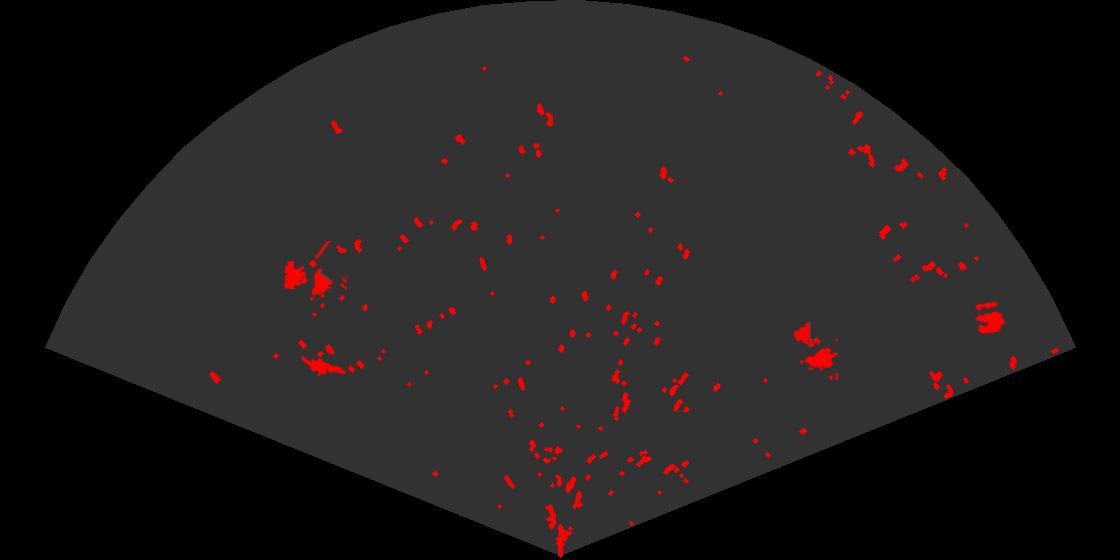ball: (973, 300, 1007, 336)
cage: (282, 241, 347, 302), (792, 320, 838, 380)
frogman: (302, 354, 348, 378)
